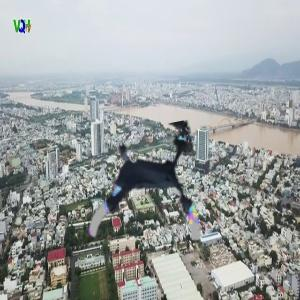drone: (80, 131, 204, 255)
